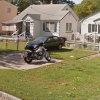Motorcycle: (15, 36, 56, 69)
